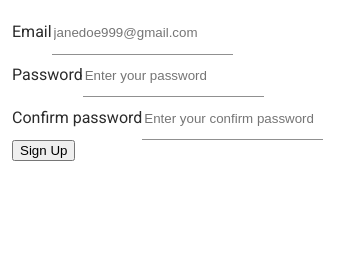
Test case: Auth Form Renders Correct Errors › Please supply a valid email address error appears
Type "invalidEmail" into the field labelled "Email" at (142,33), box [52,12,233,55]
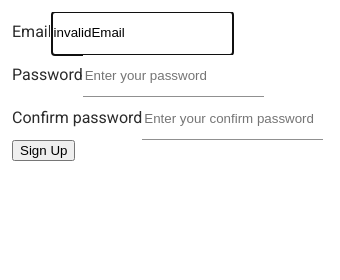
Click the button "Sign Up" at (44,150), box [12,140,75,161]
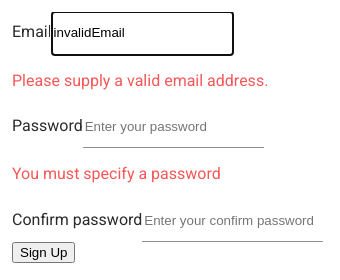
expect the text "Please supply a valid email address." is shown: met, box [12,71,268,90]
